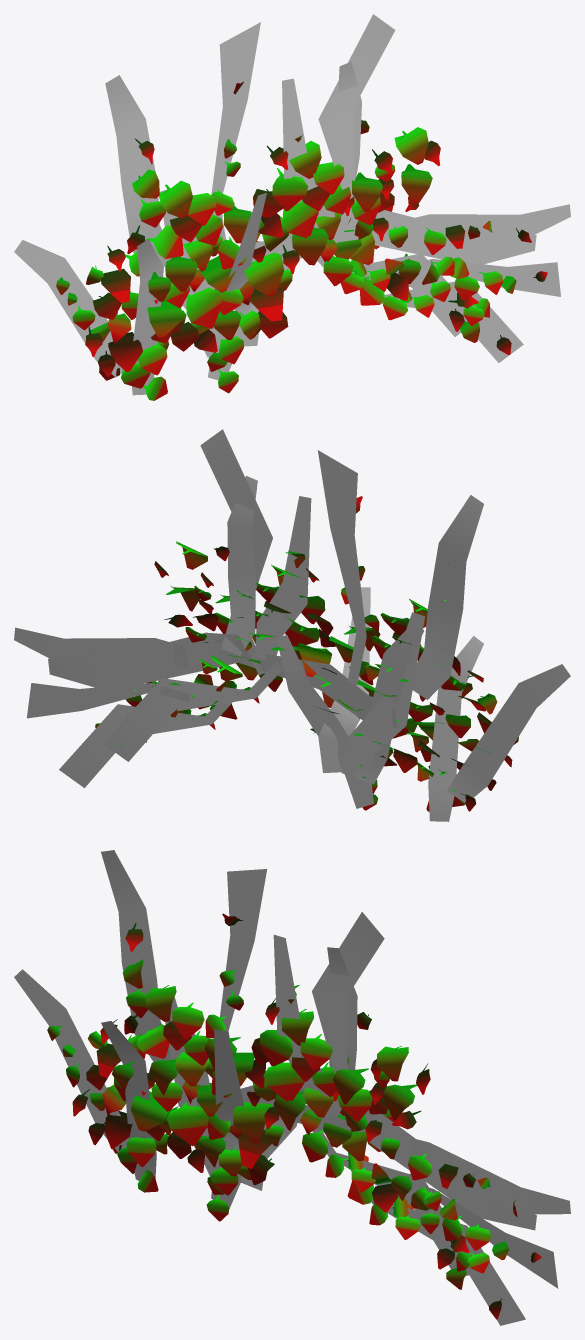
The model's file is Var4_LOD1.fbx.
The picture shows the model from 3 angles, top to bottom: view 1: azimuth 30°, elevation 25°; view 2: azimuth 150°, elevation 25°; view 3: azimuth 330°, elevation 25°; orthographic projection.
Parts seen in each view (by area): view 1: _d34e_Var4_LOD1; view 2: _d34e_Var4_LOD1; view 3: _d34e_Var4_LOD1.
Part boxes in pixels (left/top/right/bottom): _d34e_Var4_LOD1: left=14, top=14, right=570, bottom=400; _d34e_Var4_LOD1: left=14, top=429, right=570, bottom=821; _d34e_Var4_LOD1: left=14, top=850, right=570, bottom=1325.
Bounding box in the file's own units: 97.06 × 66.16 × 9.45.
